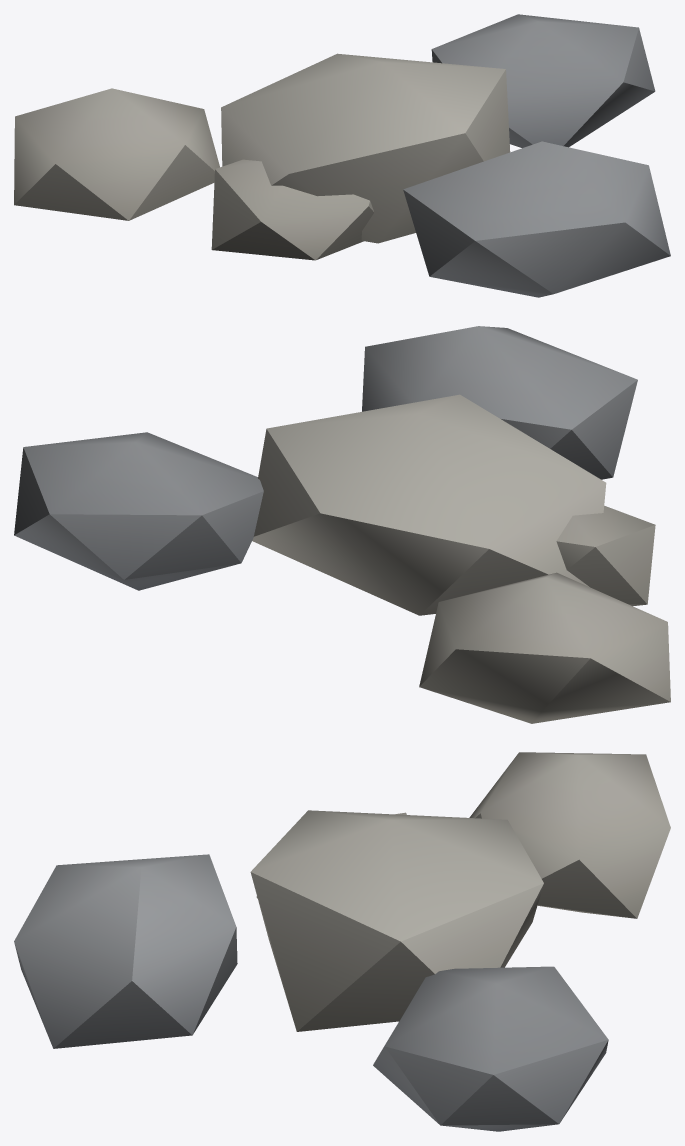
Rendered from RockPile.fbx.
3 renders of one model, top to bottom at view 1: azimuth 30°, elevation 25°; view 2: azimuth 150°, elevation 25°; view 3: azimuth 270°, elevation 25°, orthographic. The views are drawn at different scales.
Visible parts, largest first — view 1: RockPile_LOD0; view 2: RockPile_LOD0; view 3: RockPile_LOD0.
Part boxes in pixels (x1,y1,x2,y2): RockPile_LOD0: (14, 14, 670, 297); RockPile_LOD0: (14, 326, 670, 723); RockPile_LOD0: (14, 752, 670, 1131).
Size of what is drawn, in the model's own units: 0.9172 by 0.2505 by 0.7469.
1 material, 1 textured.
